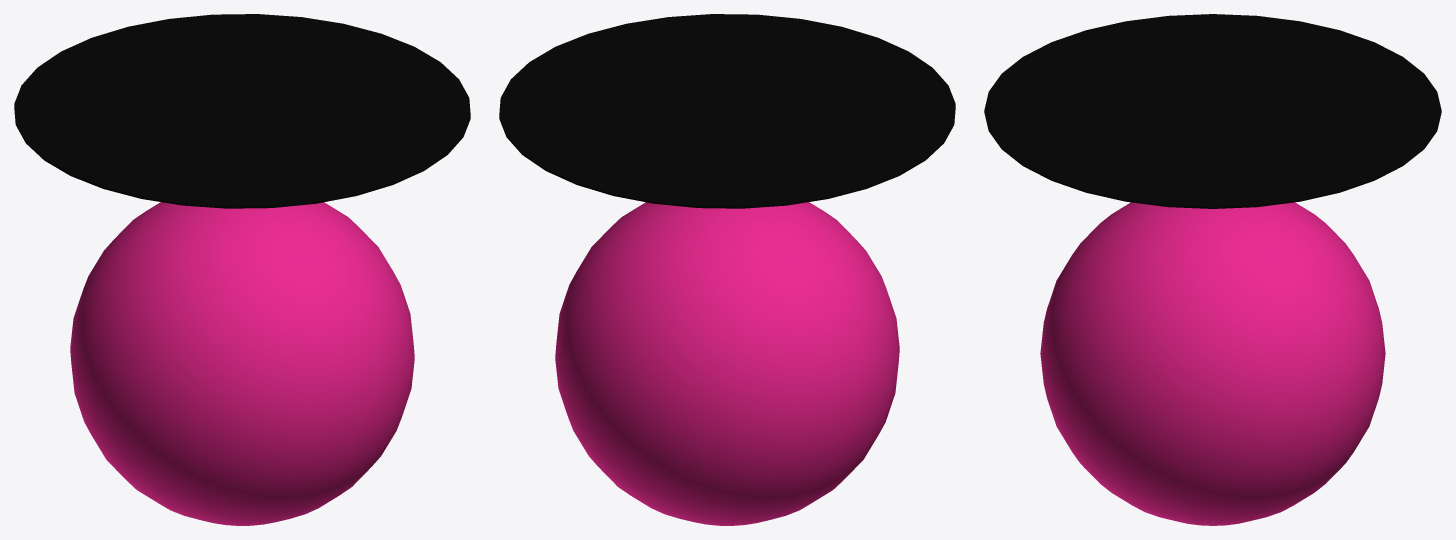
The model's file is worm.gltf.
3 views of the same model, side by side, from view 1: azimuth 30°, elevation 25°; view 2: azimuth 150°, elevation 25°; view 3: azimuth 270°, elevation 25° (orthographic).
Visible parts, largest first — view 1: Sphere, hole; view 2: Sphere, hole; view 3: Sphere, hole.
Part boxes in pixels (x1,y1,x2,y2): Sphere: (70,202,414,525); hole: (14,14,470,208); Sphere: (555,202,899,525); hole: (499,14,955,208); Sphere: (1040,202,1385,525); hole: (984,14,1441,208).
Size of the model in its own units: 2.4 by 2.31 by 2.4.
